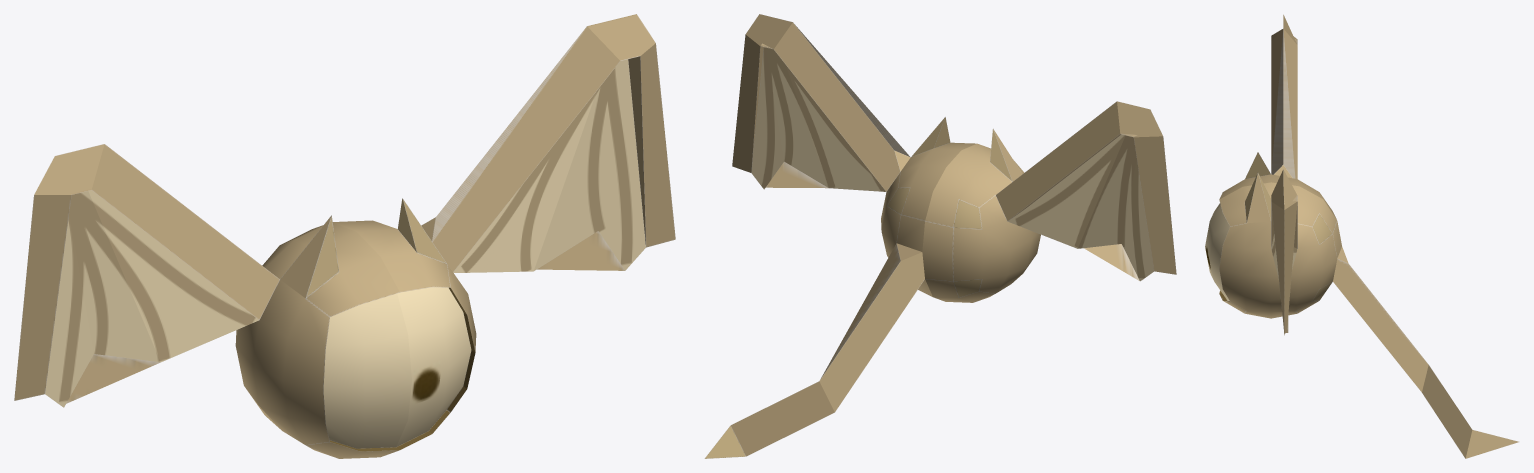
Rendered from eye_of_sand.fbx.
3 views of the same model, side by side, from view 1: azimuth 30°, elevation 25°; view 2: azimuth 150°, elevation 25°; view 3: azimuth 270°, elevation 25° (orthographic). The views are drawn at different scales.
Parts seen in each view (by area): view 1: pCube3; view 2: pCube3; view 3: pCube3.
Boxes of the visible parts, bbox=[...] form: pCube3: bbox=[14, 14, 675, 458]; pCube3: bbox=[704, 14, 1176, 458]; pCube3: bbox=[1205, 14, 1519, 458].
Bounding box in the file's own units: 2.83 × 2.09 × 1.95.
Materials: 1 (1 with a texture image).
